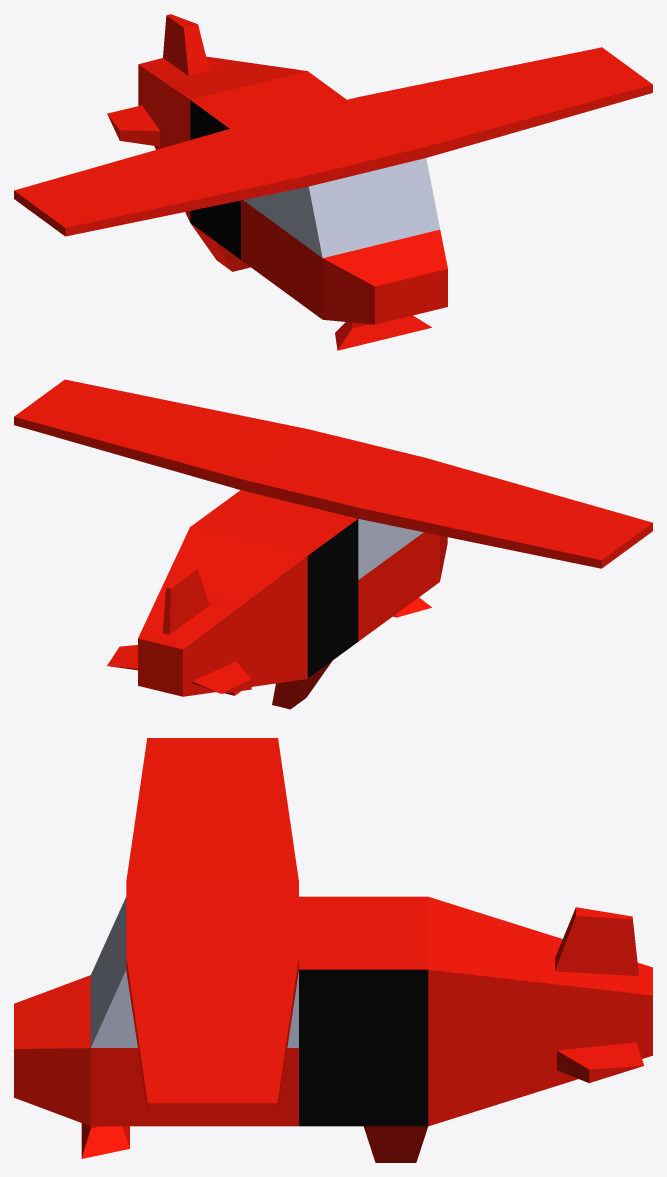
Rendered from airplane.glb.
3 renders of one model, top to bottom at view 1: azimuth 30°, elevation 25°; view 2: azimuth 150°, elevation 25°; view 3: azimuth 270°, elevation 25°, orthographic. The views are drawn at different scales.
Visible parts, largest first — view 1: Cube; view 2: Cube; view 3: Cube.
Boxes of the visible parts, <box> form: Cube: <box>14,14,652,350</box>; Cube: <box>14,379,652,709</box>; Cube: <box>14,738,652,1162</box>.
Size of the model in its own units: 10 by 2.91 by 7.39.
